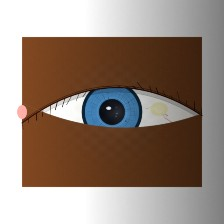pinguecula_lesion: (141, 95, 177, 123)
